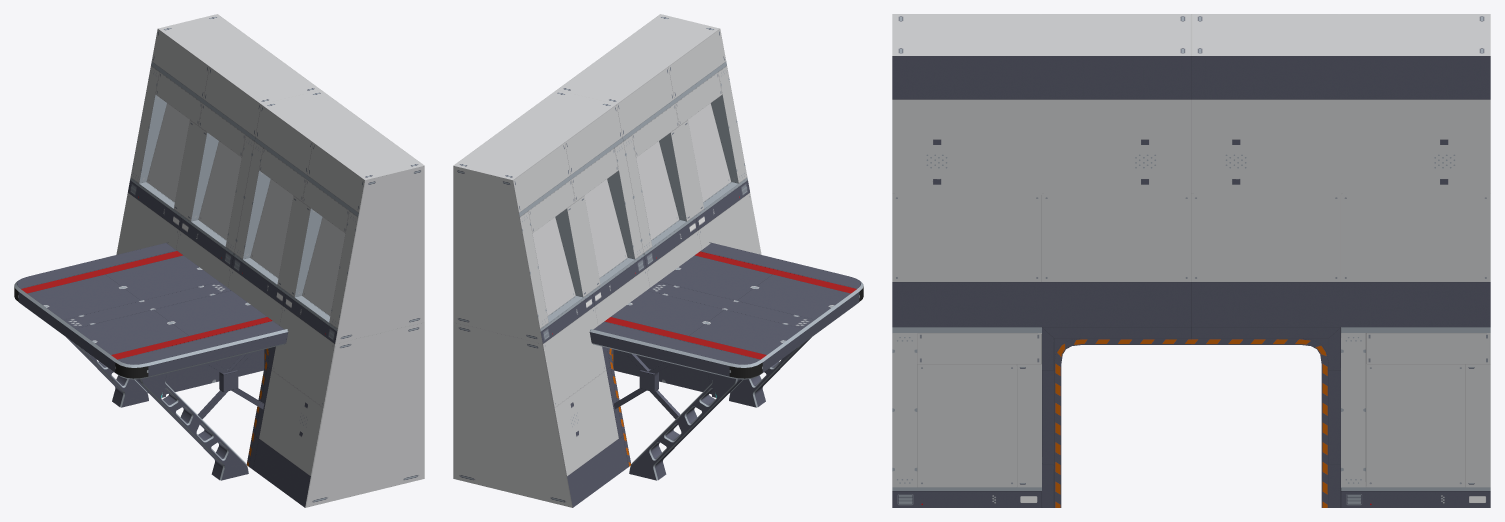
Rendered from Wall_Big_Simple_03.FBX.
3 renders of one model, left to right at view 1: azimuth 30°, elevation 25°; view 2: azimuth 150°, elevation 25°; view 3: azimuth 270°, elevation 25°, orthographic. The views are drawn at different scales.
Parts seen in each view (by area): view 1: Wall_Big_Simple_03; view 2: Wall_Big_Simple_03; view 3: Wall_Big_Simple_03.
Part boxes in pixels (x1,y1,x2,y2): Wall_Big_Simple_03: (14, 14, 424, 507); Wall_Big_Simple_03: (453, 14, 863, 507); Wall_Big_Simple_03: (892, 14, 1490, 507).
Bounding box in the file's own units: 8.5 × 10 × 12.
